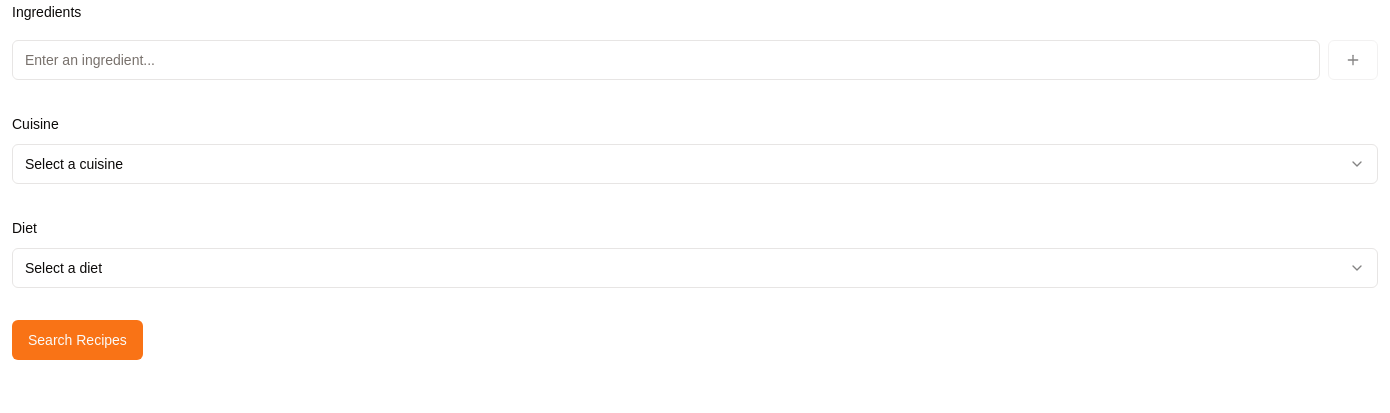
Scenario: SpecificSearch › shows error when submitting without ingredients
Step 1. Click the button "Search Recipes" → (77, 340), box [12,320,143,360]
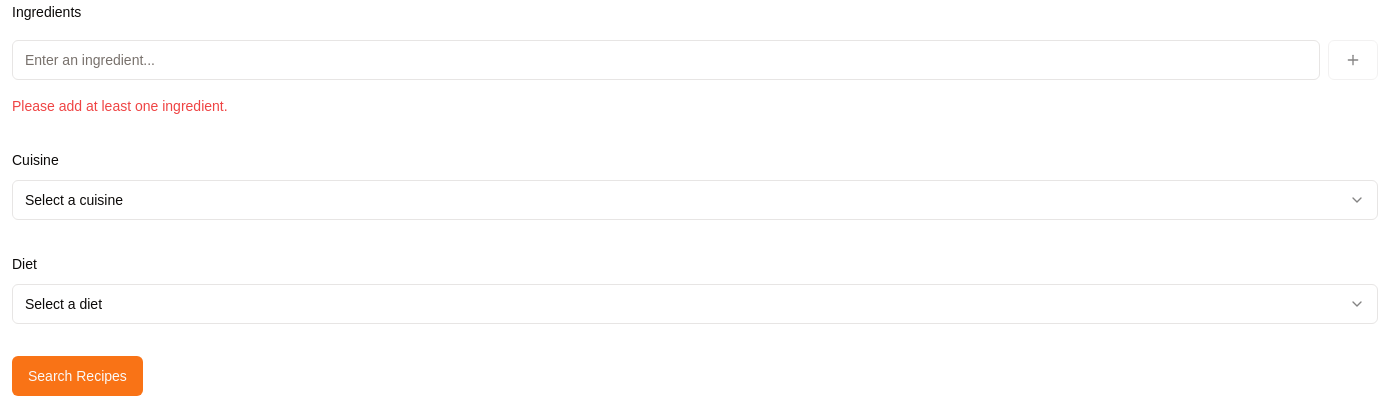
Check: the text "Please add at least one ingredient." is shown, box [12,98,228,114]
